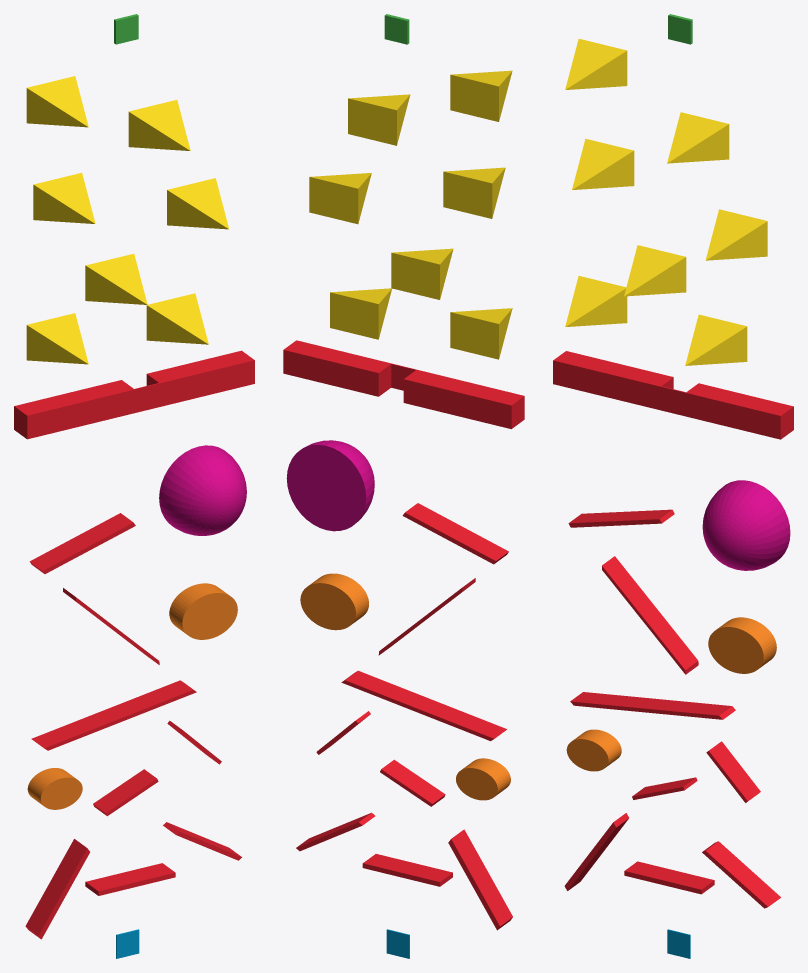
Rendered from tinker.obj.
The picture shows the model from 3 angles, left to right: view 1: azimuth 30°, elevation 25°; view 2: azimuth 150°, elevation 25°; view 3: azimuth 330°, elevation 25°; orthographic projection.
Visible parts, largest first — view 1: obj_12, obj_11, obj_7, obj_6, obj_15, obj_13, obj_19, obj_14, obj_18, obj_17, obj_16, obj_2 (+7 smaller); view 2: obj_12, obj_11, obj_7, obj_6, obj_16, obj_17, obj_19, obj_13, obj_14, obj_18, obj_15, obj_2 (+7 smaller); view 3: obj_12, obj_11, obj_7, obj_9, obj_17, obj_14, obj_18, obj_19, obj_15, obj_16, obj_13, obj_6 (+9 smaller).
Part boxes in pixels (x1=…): obj_12: x1=14, y1=350, x2=254, y2=439; obj_11: x1=159, y1=445, x2=246, y2=535; obj_7: x1=169, y1=583, x2=237, y2=639; obj_6: x1=31, y1=680, x2=196, y2=750; obj_15: x1=146, y1=293, x2=208, y2=344; obj_13: x1=26, y1=313, x2=88, y2=364; obj_19: x1=26, y1=76, x2=88, y2=127; obj_14: x1=85, y1=253, x2=147, y2=304; obj_18: x1=128, y1=100, x2=190, y2=150; obj_17: x1=33, y1=172, x2=95, y2=223; obj_16: x1=167, y1=178, x2=228, y2=229; obj_2: x1=25, y1=839, x2=89, y2=939; obj_12: x1=283, y1=340, x2=524, y2=429; obj_11: x1=286, y1=440, x2=374, y2=531; obj_7: x1=300, y1=573, x2=368, y2=630; obj_6: x1=341, y1=670, x2=506, y2=741; obj_16: x1=309, y1=173, x2=371, y2=224; obj_17: x1=443, y1=167, x2=505, y2=218; obj_19: x1=450, y1=70, x2=512, y2=121; obj_13: x1=450, y1=308, x2=512, y2=359; obj_14: x1=391, y1=248, x2=453, y2=299; obj_18: x1=348, y1=94, x2=410, y2=145; obj_15: x1=330, y1=288, x2=391, y2=339; obj_2: x1=448, y1=829, x2=512, y2=930; obj_12: x1=553, y1=351, x2=793, y2=439; obj_11: x1=702, y1=480, x2=790, y2=570; obj_7: x1=708, y1=617, x2=776, y2=673; obj_9: x1=602, y1=556, x2=698, y2=674; obj_17: x1=572, y1=138, x2=634, y2=189; obj_14: x1=624, y1=245, x2=686, y2=296; obj_18: x1=667, y1=112, x2=729, y2=163; obj_19: x1=565, y1=39, x2=627, y2=89; obj_15: x1=685, y1=314, x2=747, y2=365; obj_16: x1=705, y1=209, x2=767, y2=260; obj_13: x1=565, y1=276, x2=627, y2=326; obj_6: x1=570, y1=692, x2=735, y2=719.
Bounding box in the file's own units: 201 × 791 × 61.
